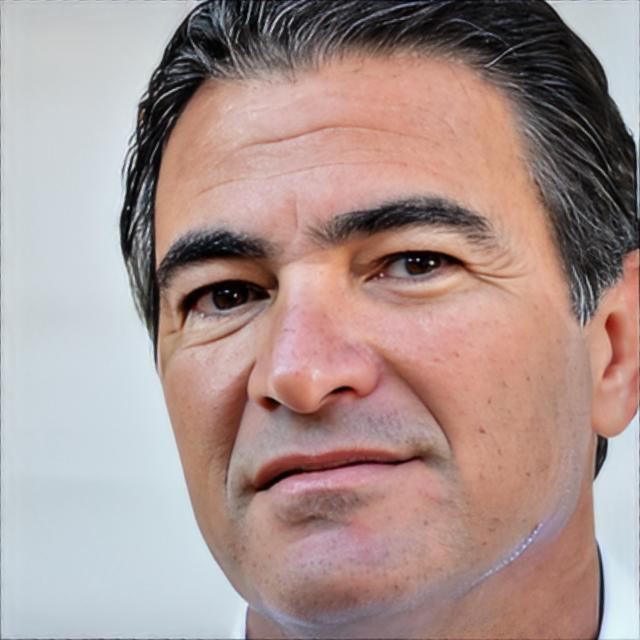content: (156, 44, 592, 622)
